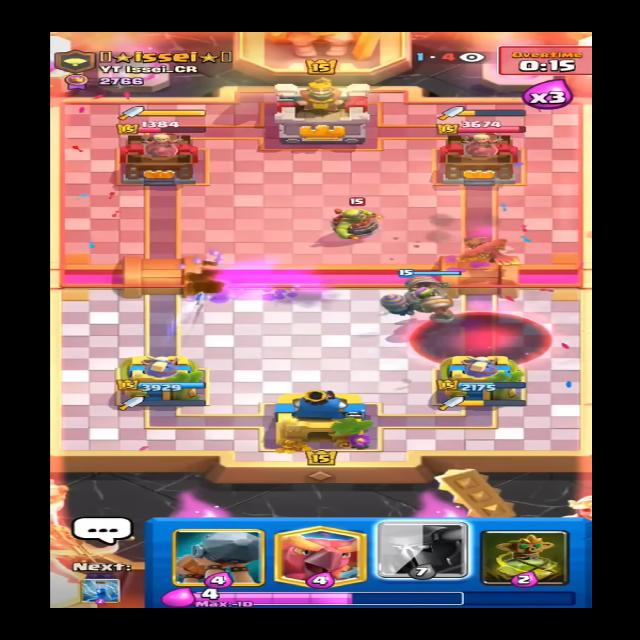goblin-demolisher: (316, 194, 388, 237)
